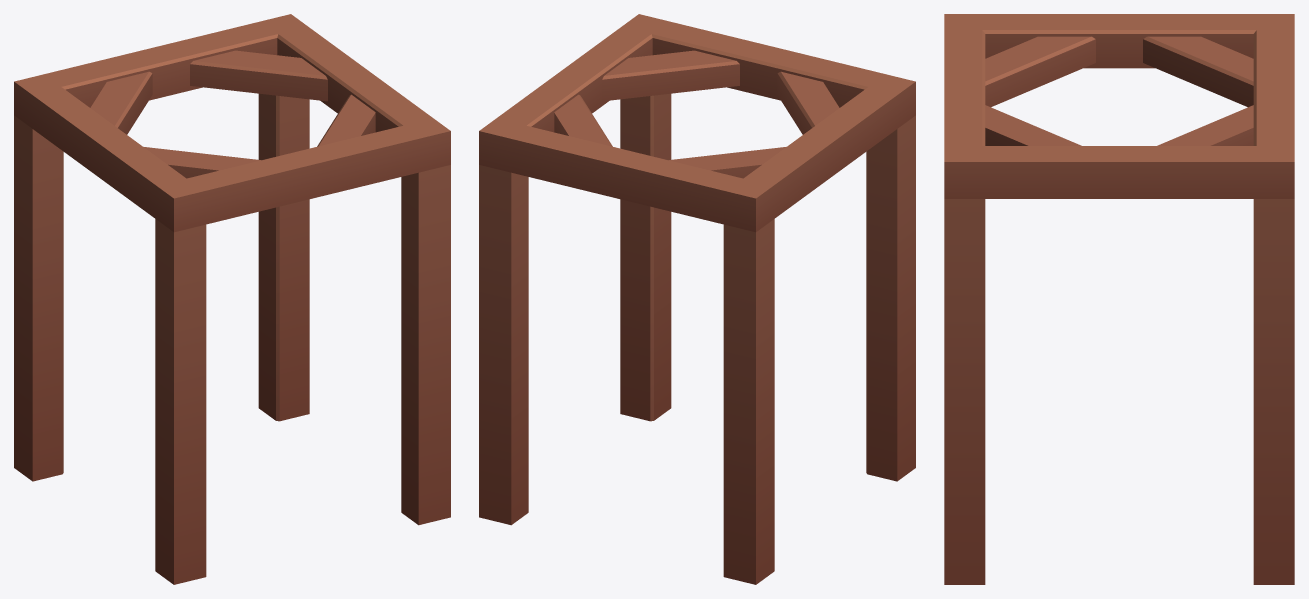
Rendered from scaffold_frame_small.glb.
3 views of the same model, side by side, from view 1: azimuth 30°, elevation 25°; view 2: azimuth 150°, elevation 25°; view 3: azimuth 270°, elevation 25° (orthographic). The views are drawn at different scales.
Parts seen in each view (by area): view 1: scaffold_frame_small; view 2: scaffold_frame_small; view 3: scaffold_frame_small.
Boxes of the visible parts, x1,y1,x2,y2 form: scaffold_frame_small: (14, 14, 450, 584); scaffold_frame_small: (479, 14, 915, 584); scaffold_frame_small: (944, 14, 1294, 584).
Size of the model in its own units: 3 by 4 by 3.
Materials: 1 (1 with a texture image).
